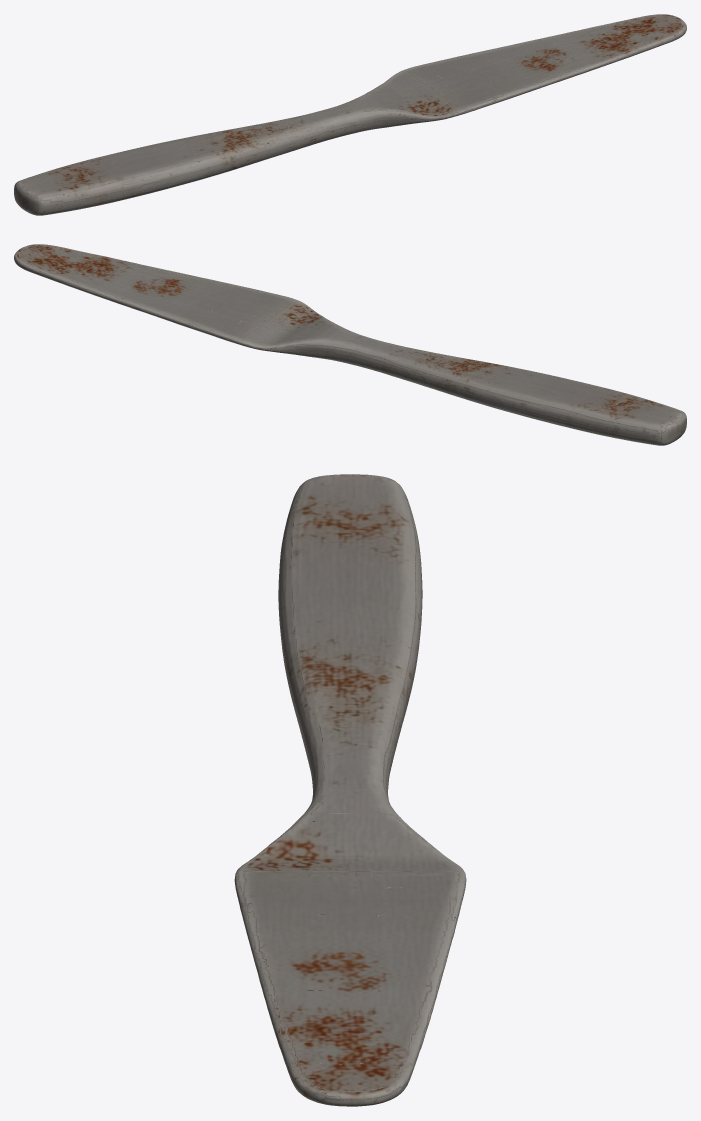
3 renders of one model, top to bottom at view 1: azimuth 30°, elevation 25°; view 2: azimuth 150°, elevation 25°; view 3: azimuth 270°, elevation 25°, orthographic. The views are drawn at different scales.
Size of the model in its own units: 2 by 0.091 by 0.3028.
1 material, 1 textured.
